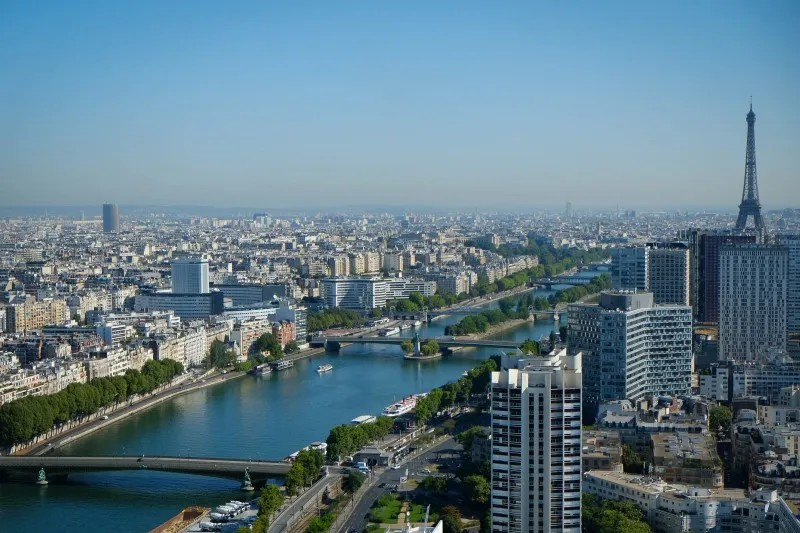Eiffel: (733, 95, 766, 232)
